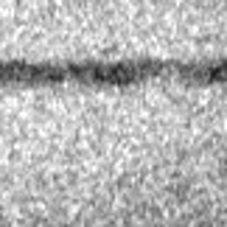CR: (1, 55, 227, 92)
